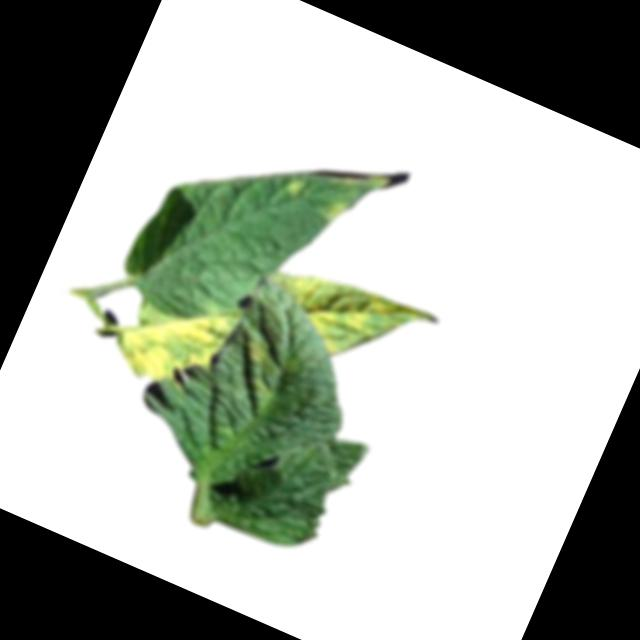Leaf_Mold: (258, 252, 439, 389), (106, 274, 235, 403), (235, 336, 278, 374), (276, 172, 311, 204), (318, 194, 349, 228)
